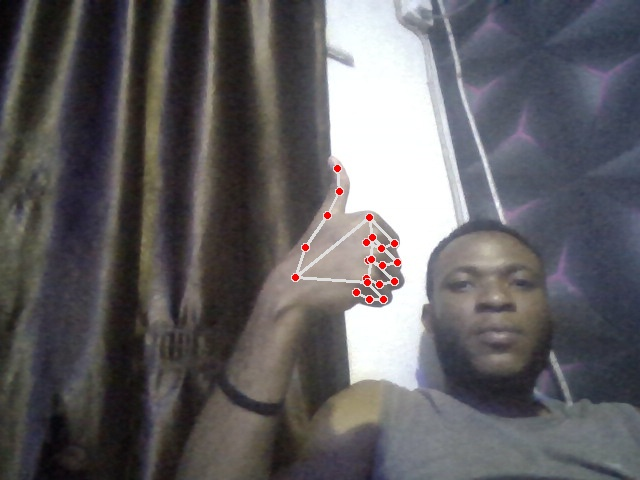thumbsup: (289, 157, 405, 308)
